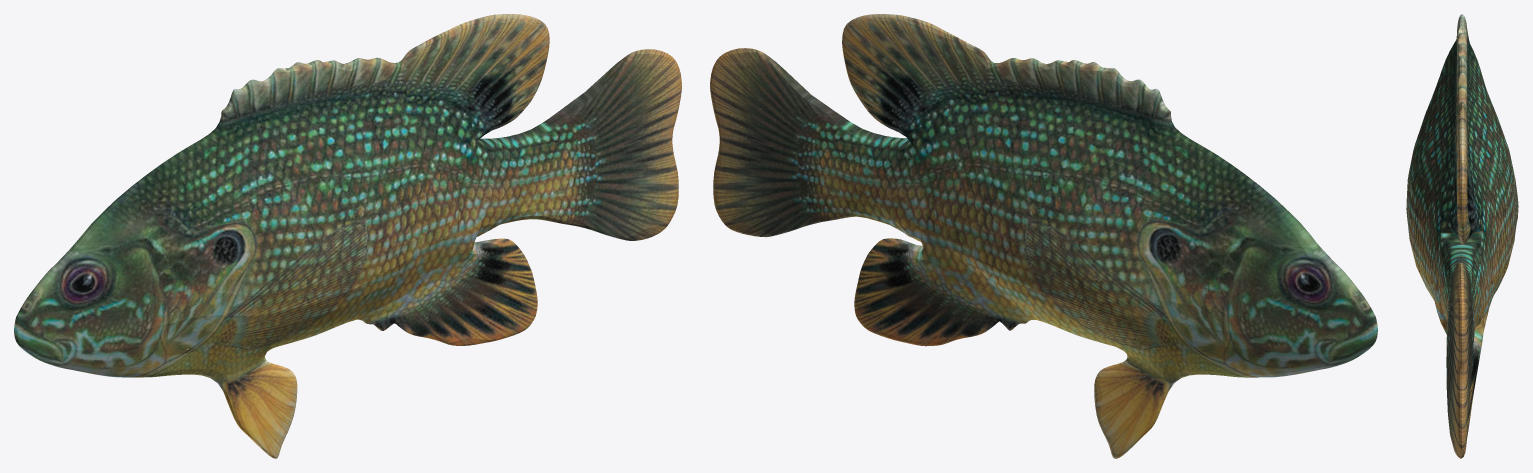
The model's file is GreenSunfishNoAnimation.fbx.
3 renders of one model, left to right at view 1: azimuth 30°, elevation 25°; view 2: azimuth 150°, elevation 25°; view 3: azimuth 270°, elevation 25°, orthographic.
Parts seen in each view (by area): view 1: Green sunf; view 2: Green sunf; view 3: Green sunf.
Part boxes in pixels (bbox=[...]): Green sunf: bbox=[14, 14, 681, 458]; Green sunf: bbox=[710, 14, 1377, 458]; Green sunf: bbox=[1406, 14, 1518, 458].
Size of the model in its own units: 71533 by 40077 by 10606.
